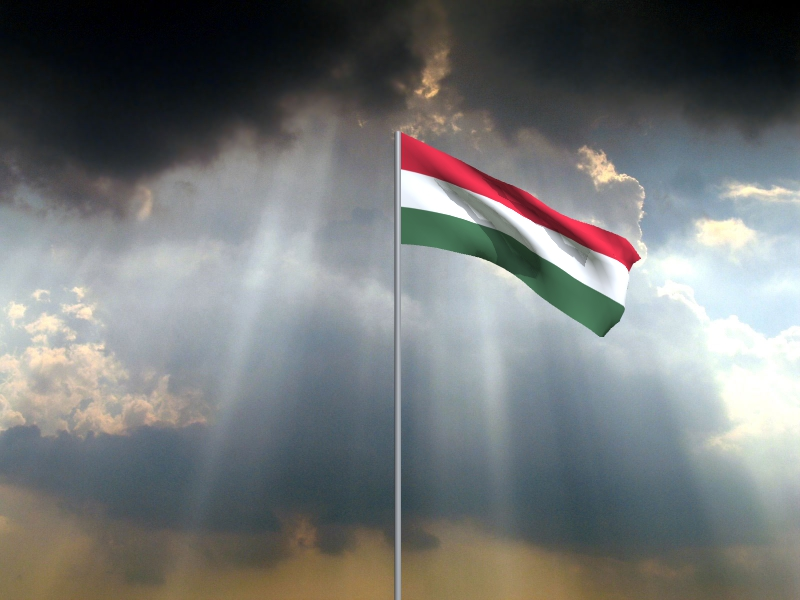hu: (402, 133, 642, 339)
